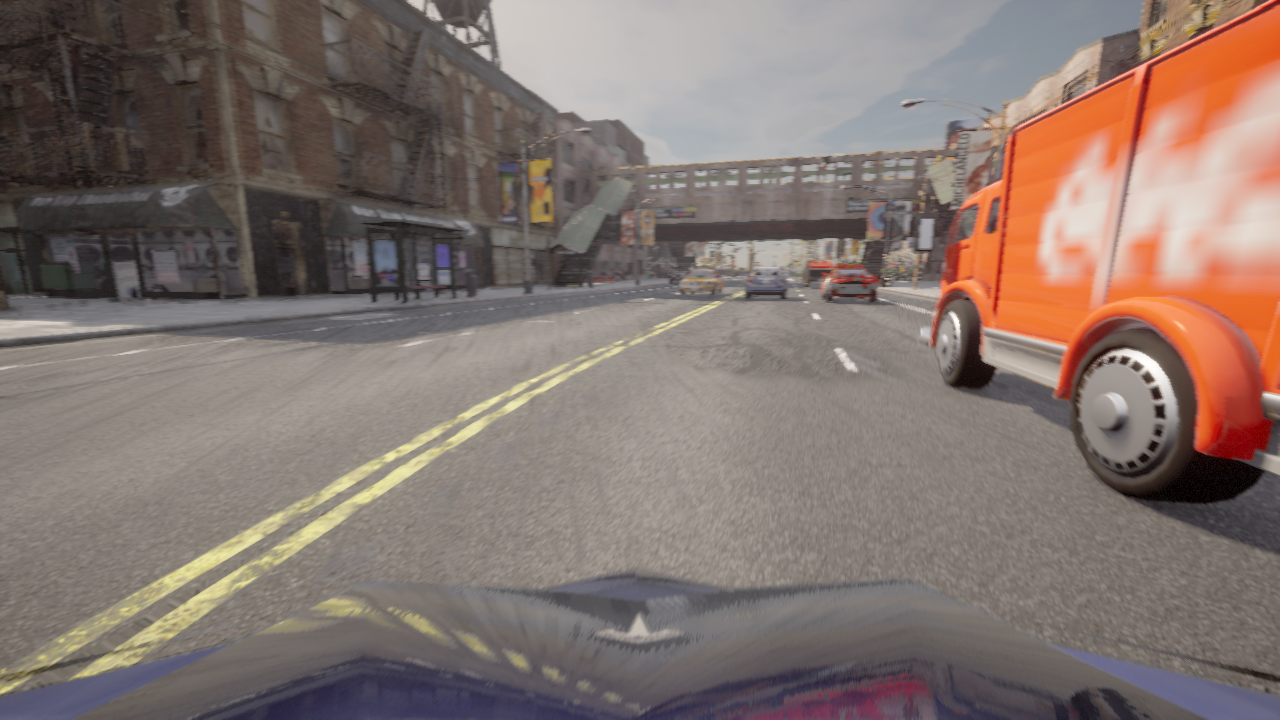cyclist: (0, 569, 1279, 719), (914, 0, 1279, 504), (820, 266, 879, 302), (745, 268, 788, 299), (680, 267, 722, 296), (802, 262, 837, 288), (669, 266, 693, 284), (877, 271, 891, 286), (781, 272, 784, 276), (653, 273, 654, 275)
